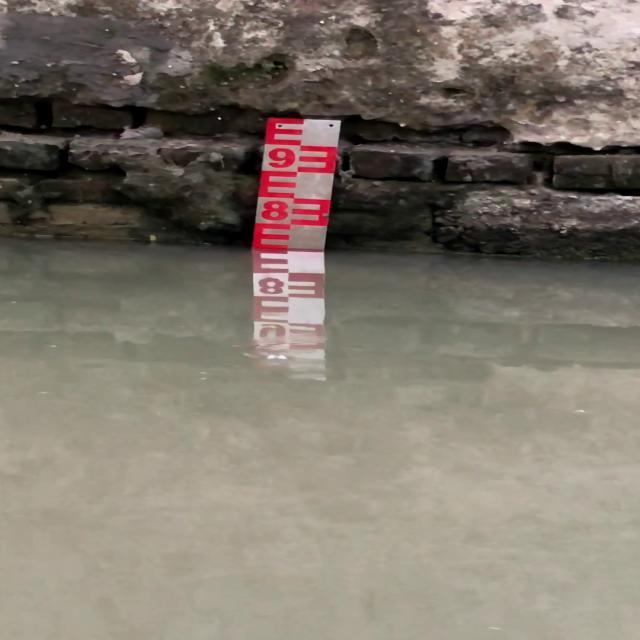ruler: (240, 108, 349, 266)
value: (263, 141, 300, 173), (258, 196, 294, 227)
